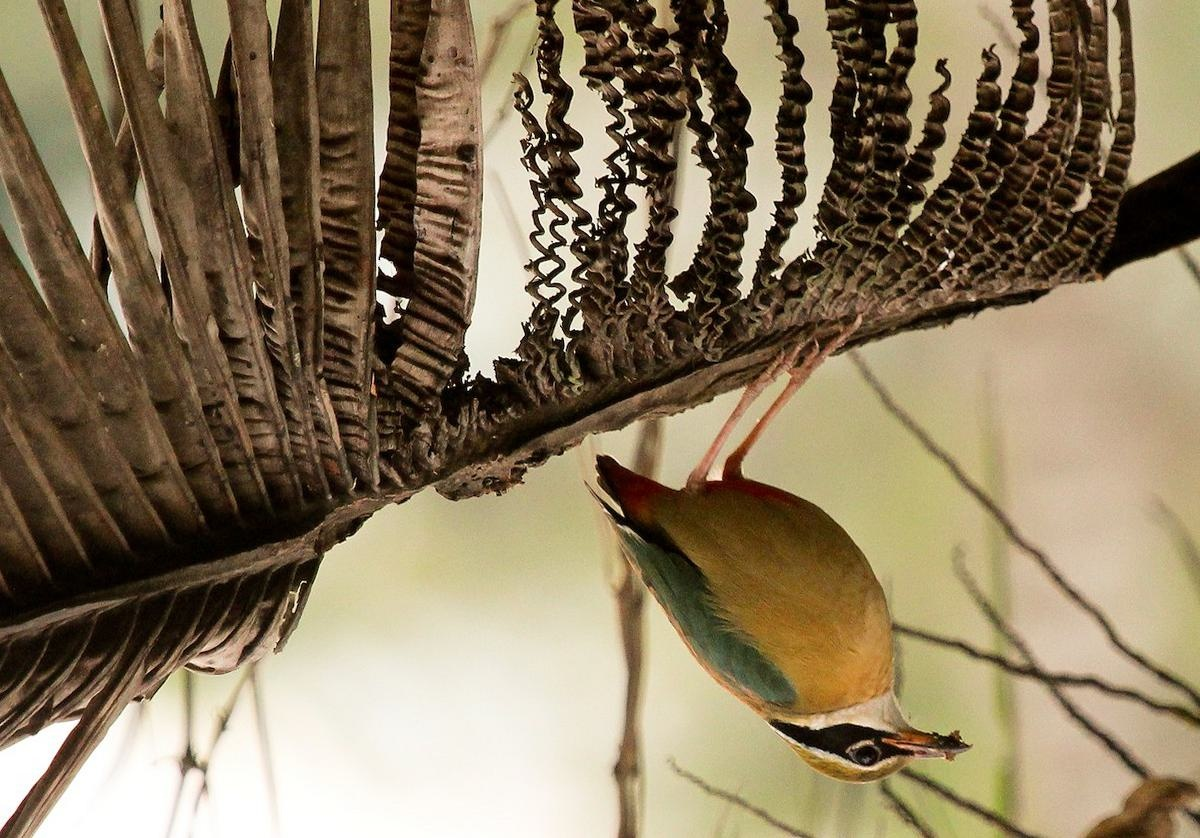pitta: (573, 319, 1021, 799)
